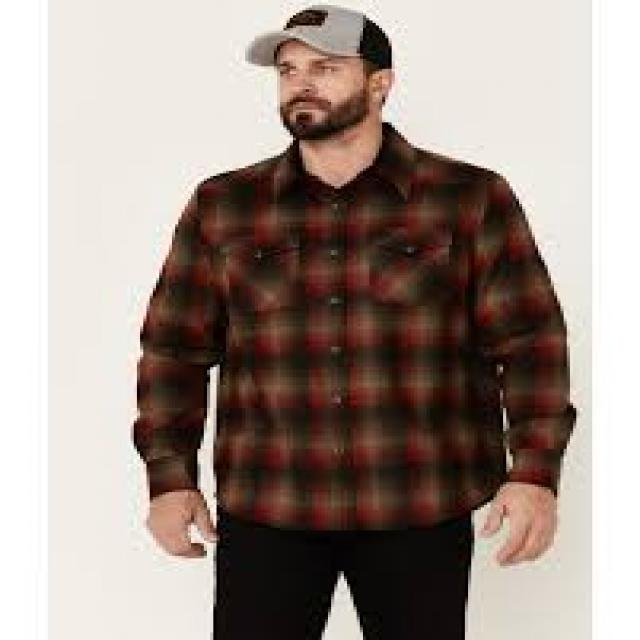plaid: (136, 117, 584, 524)
